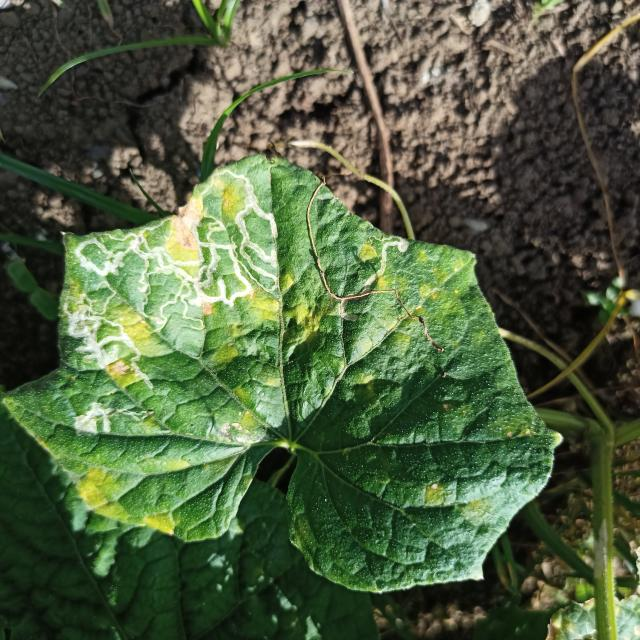disease_cucumber: (63, 178, 320, 454), (317, 241, 447, 388), (74, 452, 198, 540), (420, 479, 486, 521)
